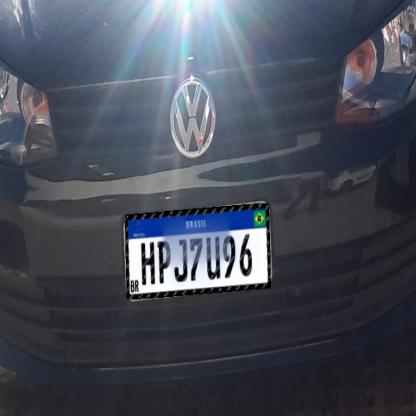PlacaM: (125, 204, 271, 300)
